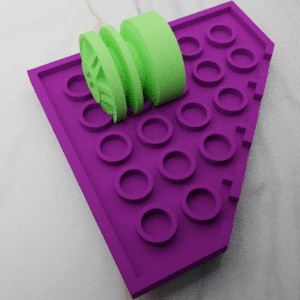lego: (26, 0, 275, 300), (78, 10, 185, 123)
